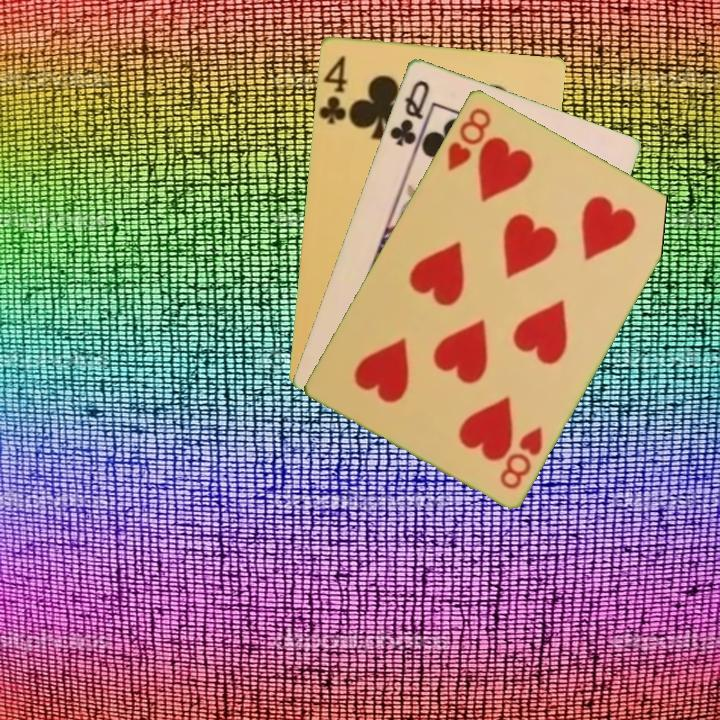4c: (315, 51, 350, 126)
8h: (443, 103, 494, 174), (496, 422, 546, 492)
Qc: (386, 76, 432, 156)
